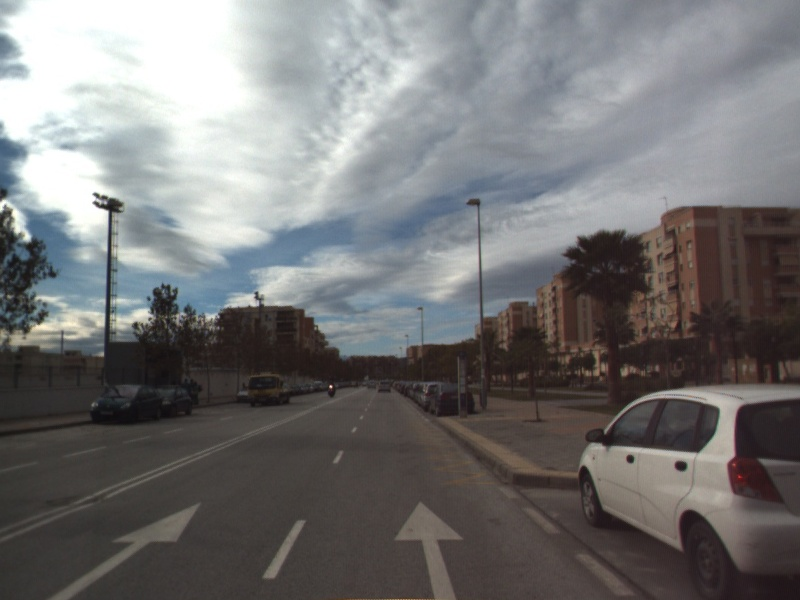STRAIGHT: (43, 500, 204, 600), (392, 499, 466, 600)
